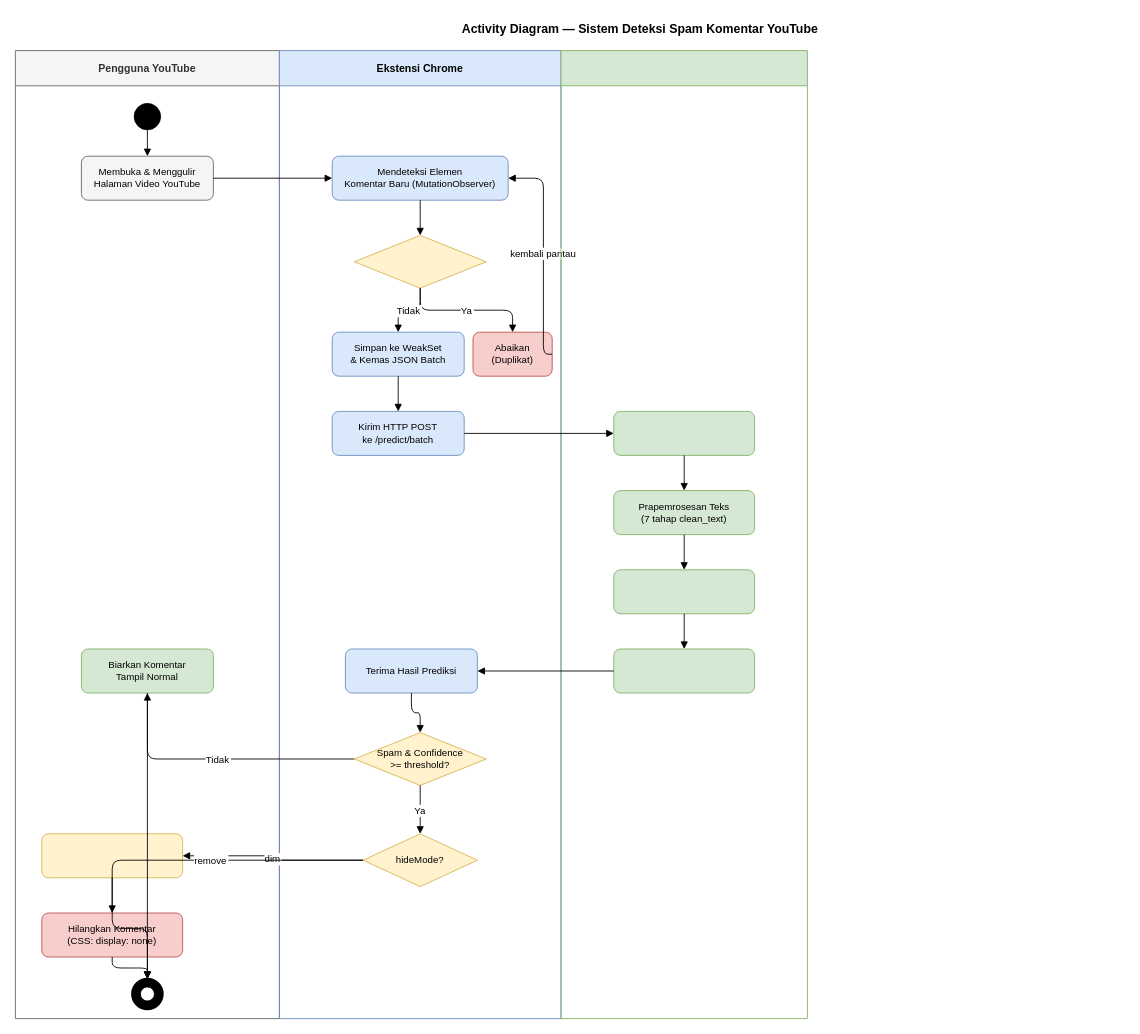
The diagram is 1140 pixels wide and 1034 high, and some of its shapes have lost their labels. The shapes that lost their labels are listed below. From the top down, each one's box as (x1, y1, x2, y2) in pixels, then its label:
(353, 235, 486, 288): Teks sudah ada di WeakSet?
(613, 411, 755, 455): Terima Request /predict/batch
(560, 50, 807, 1019): Server API (VPS)
(613, 569, 755, 614): Ekstraksi Fitur TF-IDF & Klasifikasi SVM
(613, 648, 755, 693): Kembalikan Response JSON
(41, 833, 183, 878): Redupkan Komentar (opacity 15% + badge)
